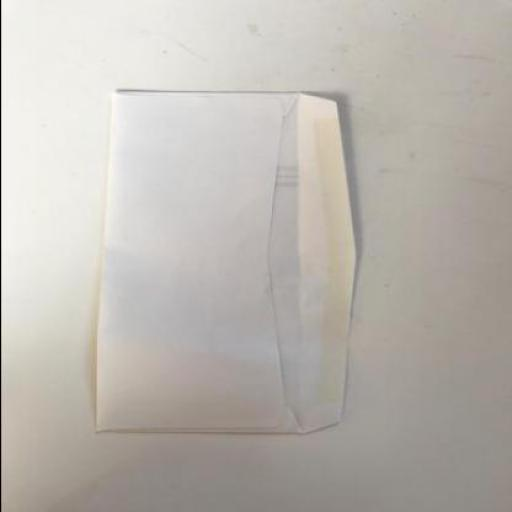paper: (92, 89, 356, 433)
